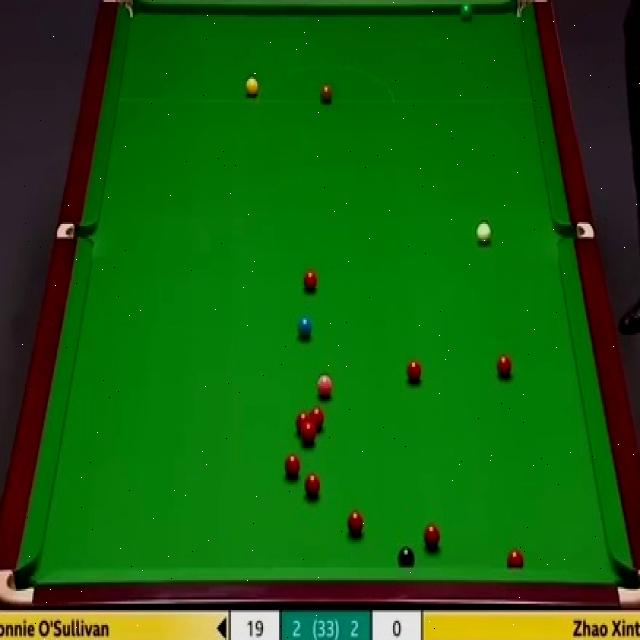black-ball: (398, 545, 415, 568)
blue-ball: (296, 316, 314, 338)
brown-ball: (320, 80, 332, 102)
green-ball: (459, 0, 473, 19)
pink-ball: (318, 373, 336, 402)
red-ball: (304, 468, 323, 498), (405, 356, 423, 386), (347, 509, 365, 539), (423, 525, 441, 553), (285, 449, 300, 478), (302, 269, 318, 296), (295, 411, 310, 438), (496, 354, 511, 381), (506, 548, 525, 567), (310, 407, 324, 432), (302, 425, 318, 446)
white-ball: (476, 220, 492, 247)
yellow-ball: (245, 79, 258, 97)
